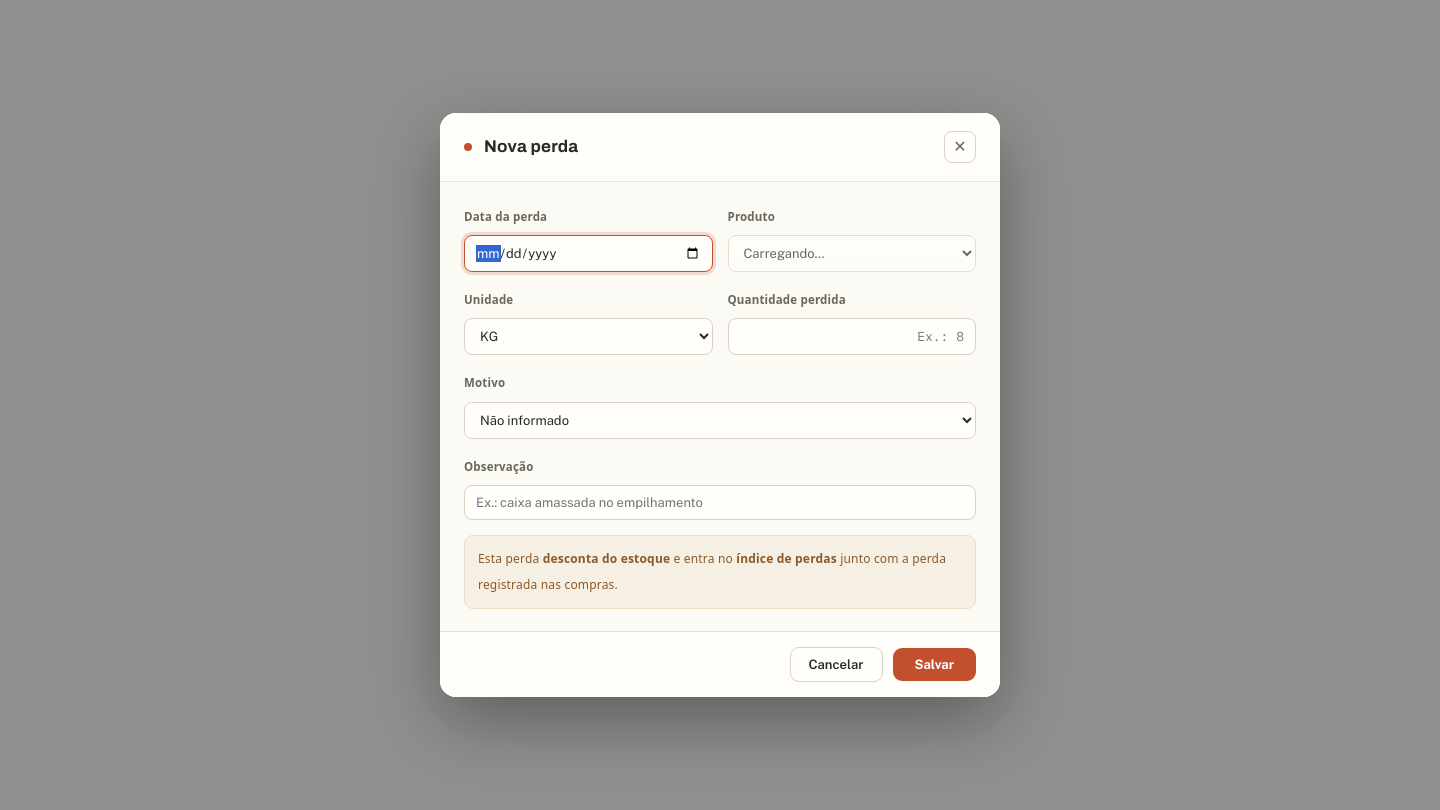
Test: ModalPerda — outros erros › erro != 401 mostra mensagem generica
In the date field labelled "Data da perda": (588, 254) [464,235,712,272], type "2026-08-15"
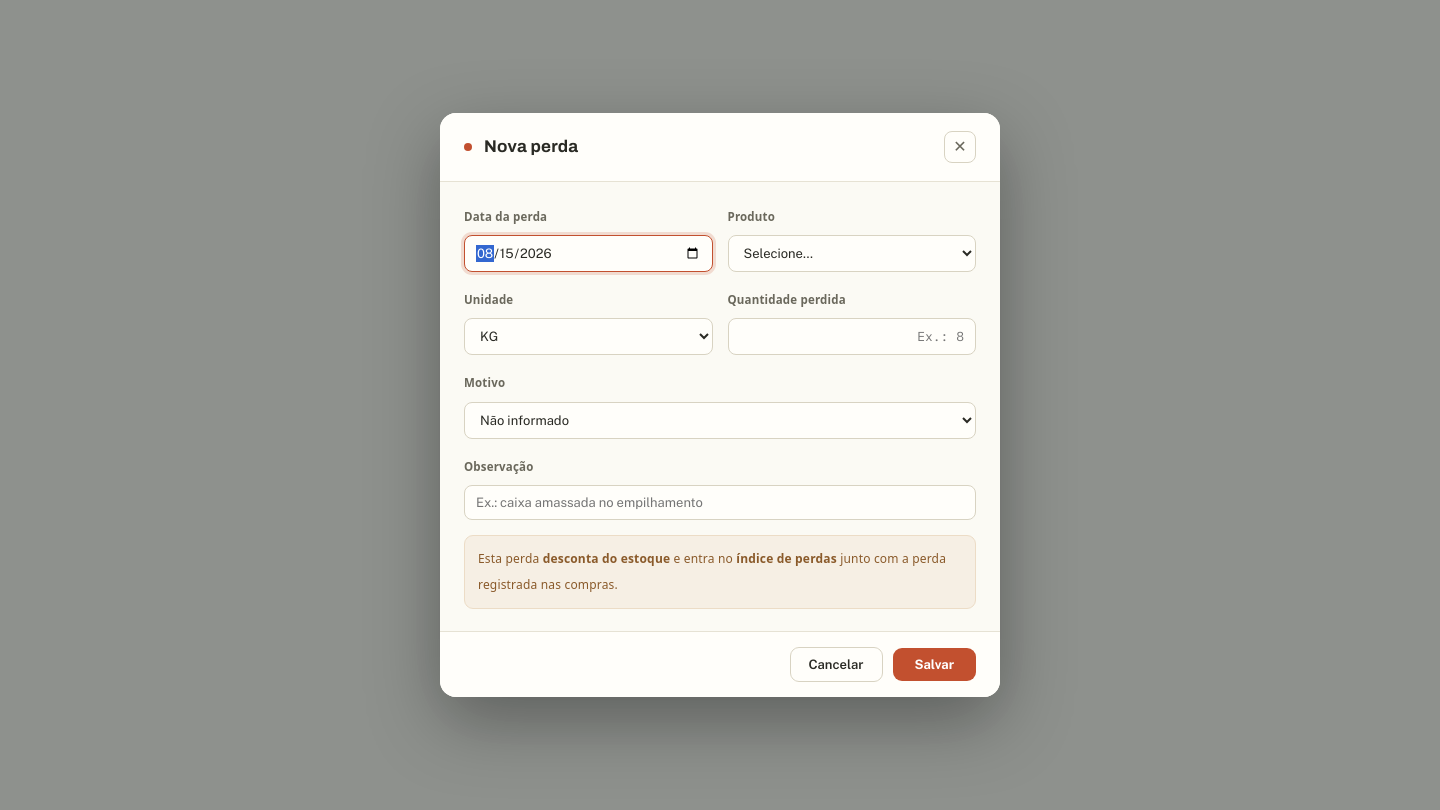
Select "Tomate" in the dropdown labelled "Produto": (852, 254) [728,235,976,272]
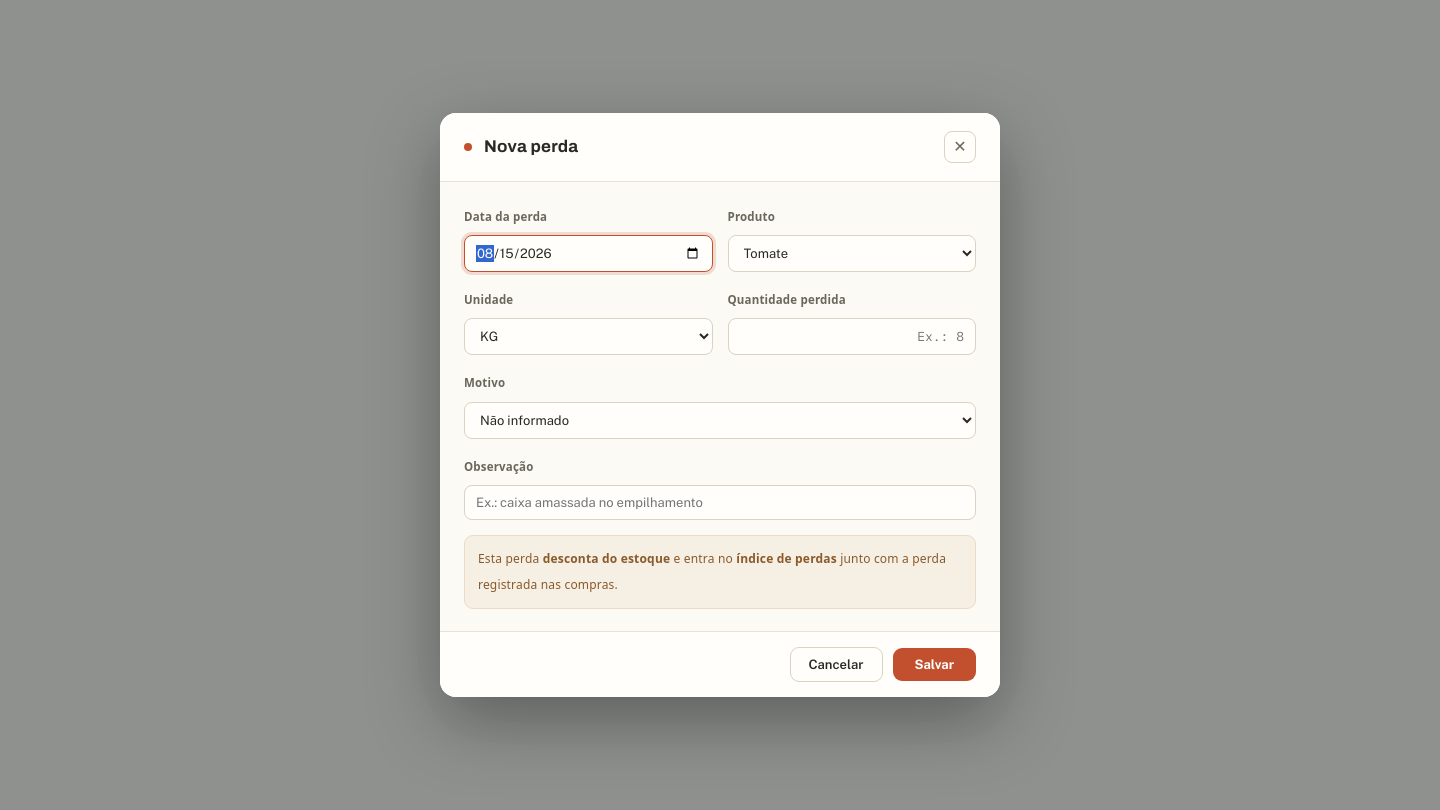
In the number field labelled "Quantidade perdida": (852, 337) [728,318,976,355], type "1"
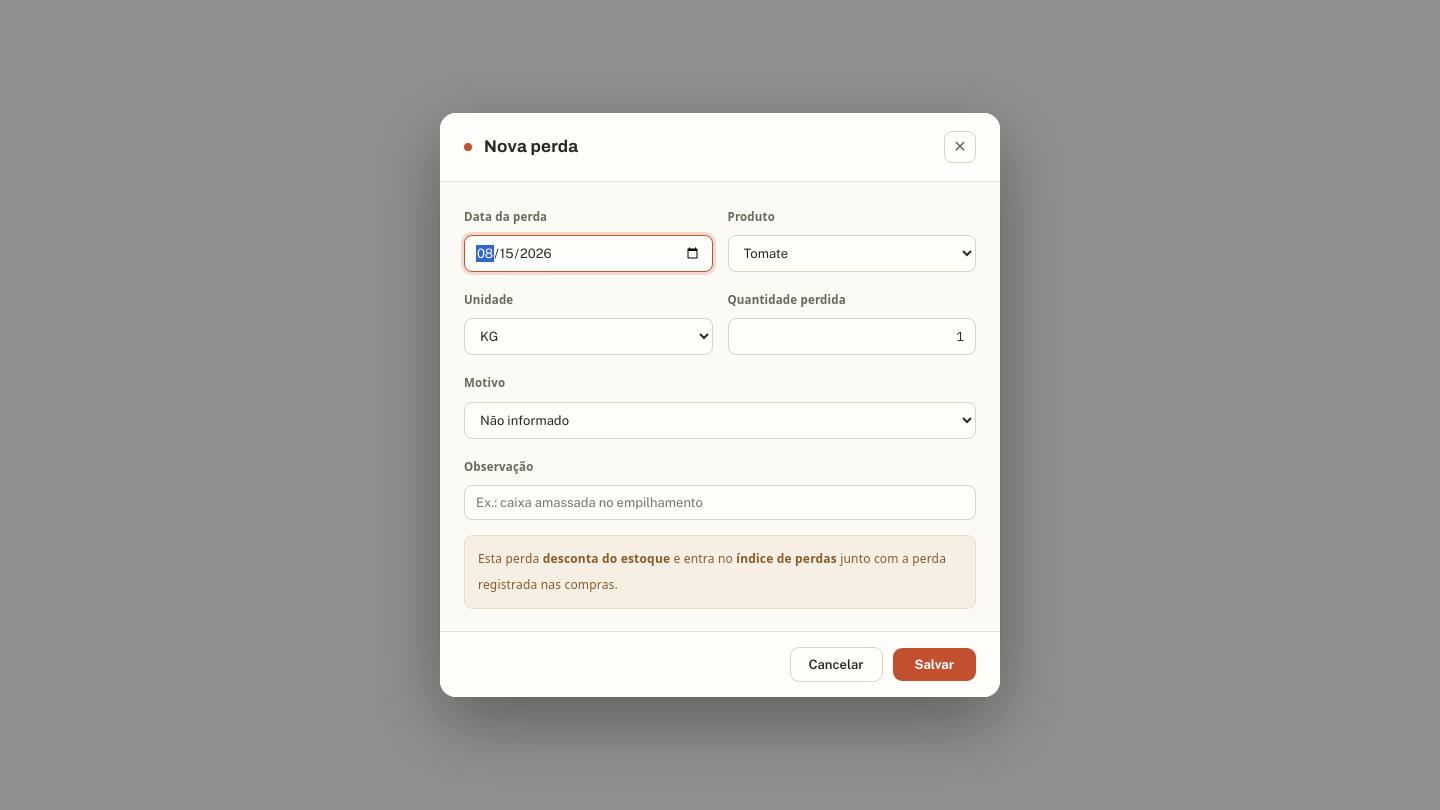
Click the button "Salvar": (934, 664) [892,648,976,681]
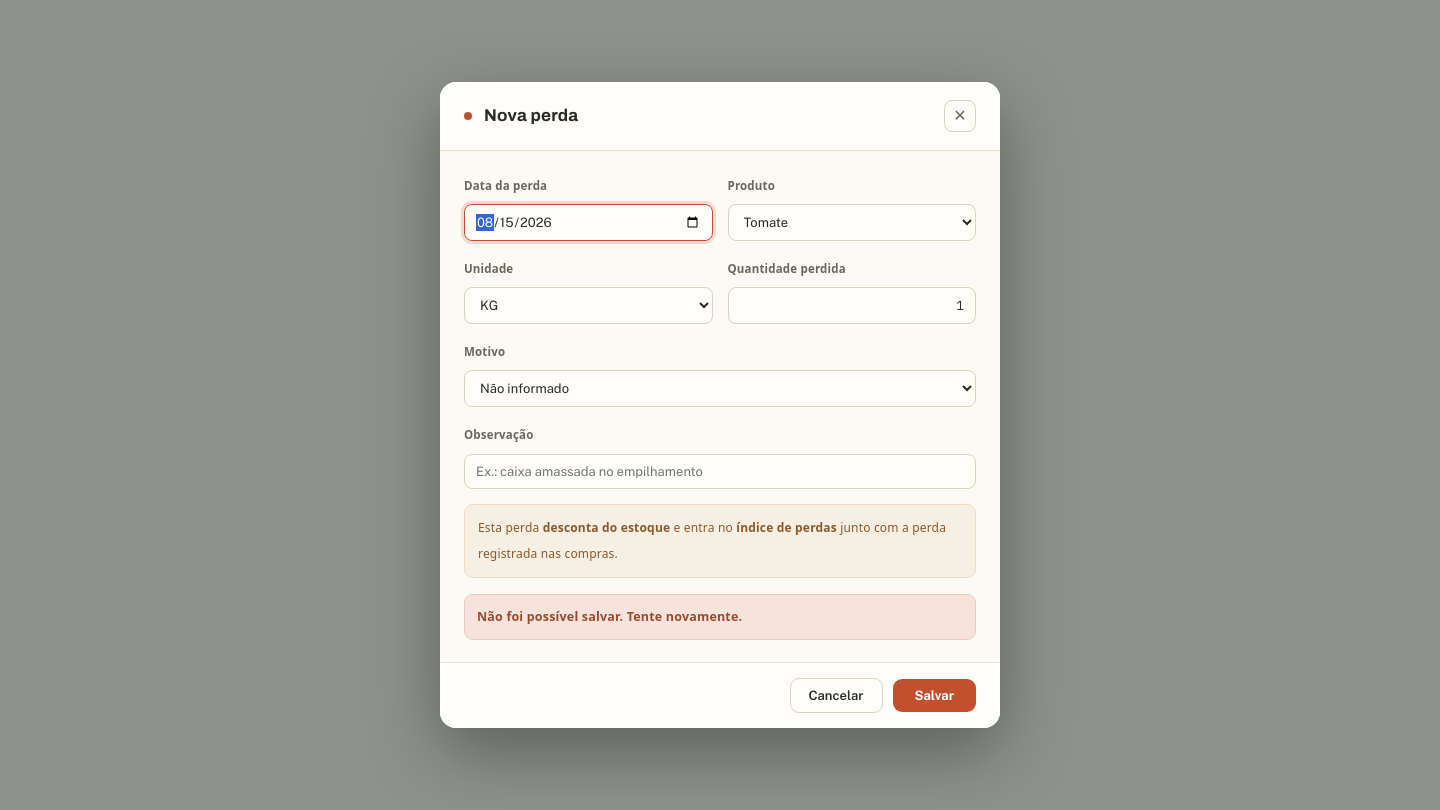
Result: the text "Não foi possível salvar. Tente novamente." is shown at [464,594,976,640]
